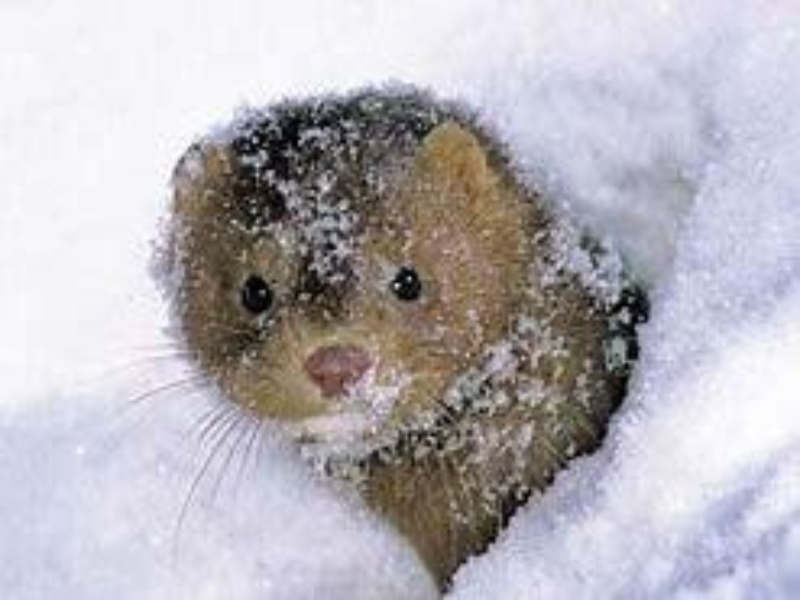minkish: (156, 85, 639, 578)
